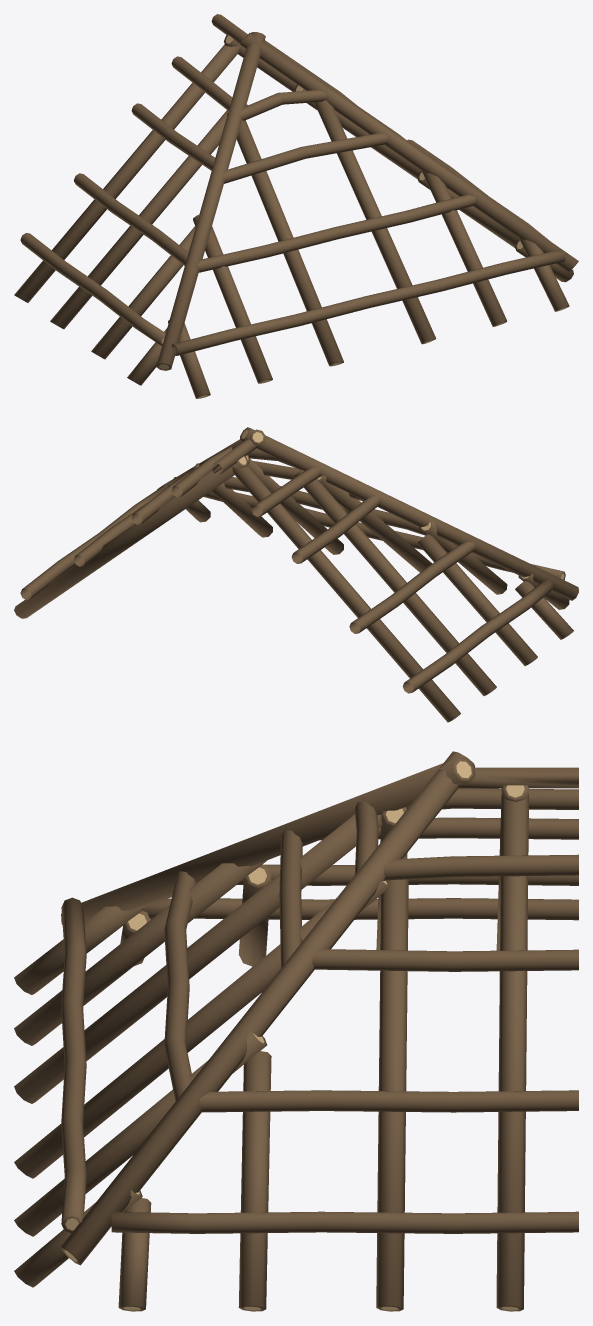
File: rpgpp_ag_roof_support_01_9x4x3_end_02.fbx
The picture shows the model from 3 angles, top to bottom: view 1: azimuth 30°, elevation 25°; view 2: azimuth 150°, elevation 25°; view 3: azimuth 270°, elevation 25°; orthographic projection. The views are drawn at different scales.
Visible parts, largest first — view 1: rpgpp_ag_roof_support_01_9x4x3_end_02; view 2: rpgpp_ag_roof_support_01_9x4x3_end_02; view 3: rpgpp_ag_roof_support_01_9x4x3_end_02.
Boxes of the visible parts, x1,y1,x2,y2 form: rpgpp_ag_roof_support_01_9x4x3_end_02: (14,14,578,398); rpgpp_ag_roof_support_01_9x4x3_end_02: (14,427,578,722); rpgpp_ag_roof_support_01_9x4x3_end_02: (14,751,578,1311).
Bounding box in the file's own units: 10 × 4.94 × 6.58.
